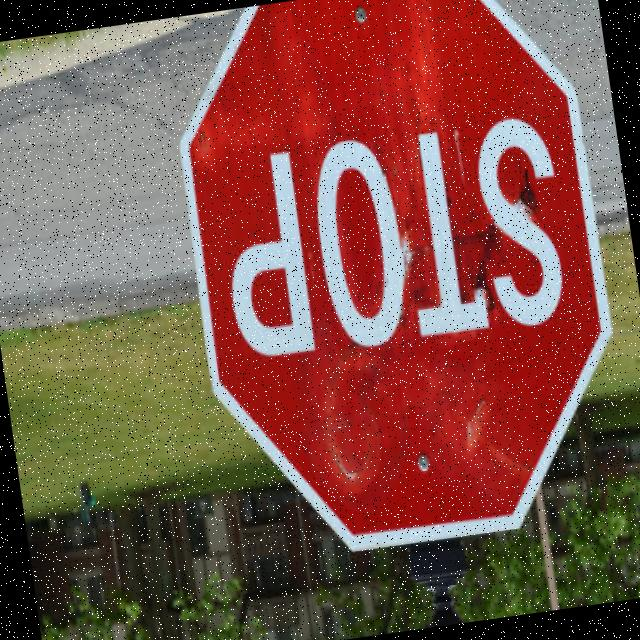stop: (157, 0, 640, 578)
